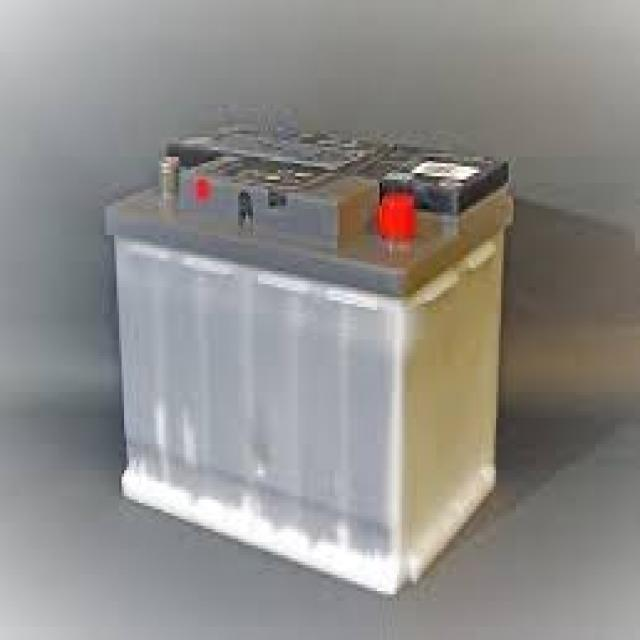battery: (108, 120, 516, 600)
